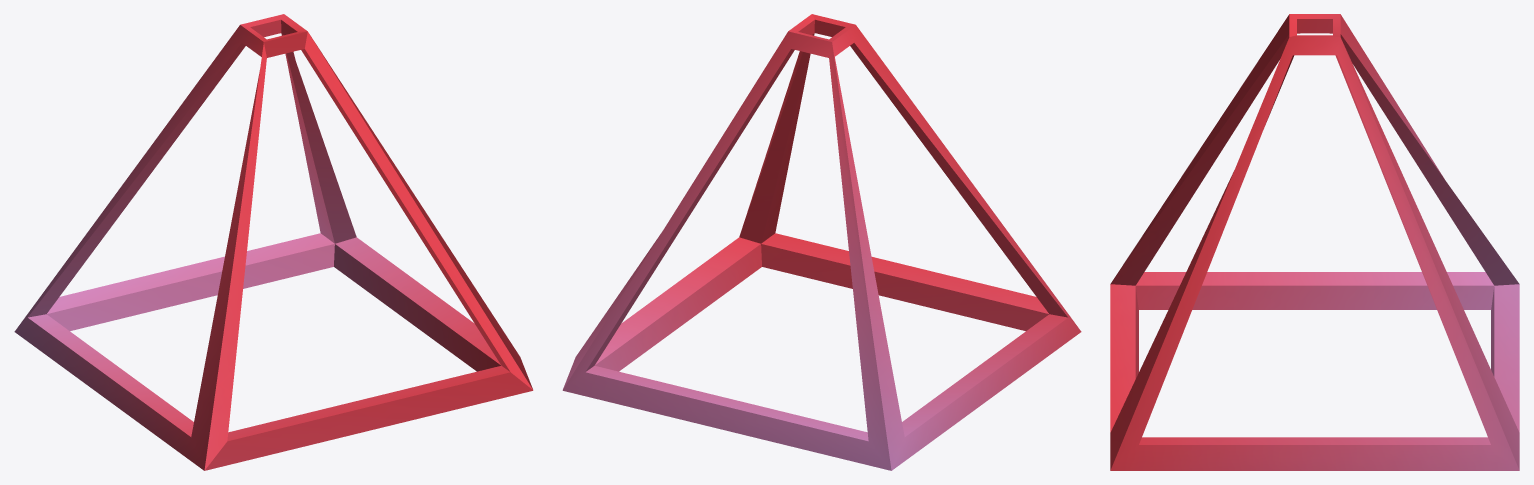
The model's file is POL0110021.fbx.
3 views of the same model, side by side, from view 1: azimuth 30°, elevation 25°; view 2: azimuth 150°, elevation 25°; view 3: azimuth 270°, elevation 25° (orthographic). The views are drawn at different scales.
Parts seen in each view (by area): view 1: smPOL0110021; view 2: smPOL0110021; view 3: smPOL0110021.
Part boxes in pixels (x1,y1,x2,y2): smPOL0110021: (14, 14, 533, 470); smPOL0110021: (562, 14, 1081, 470); smPOL0110021: (1110, 14, 1519, 470).
Bounding box in the file's own units: 268 × 259 × 268.
1 material, 1 textured.
